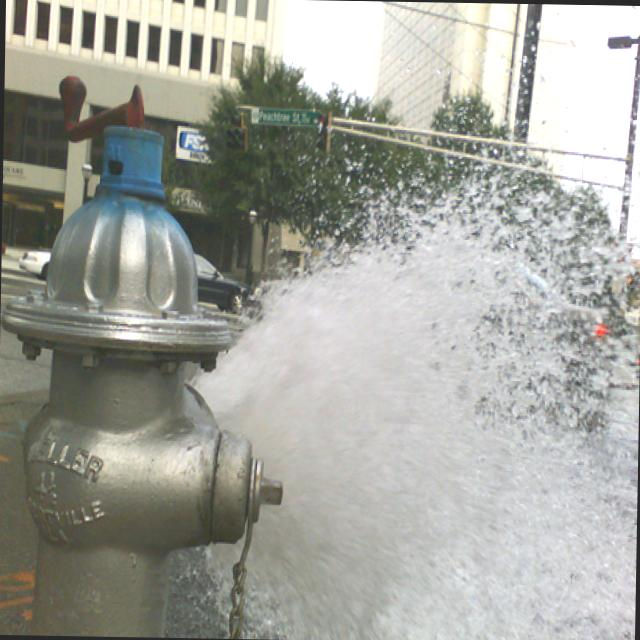Vehicle: (482, 253, 613, 420), (194, 255, 256, 314)
